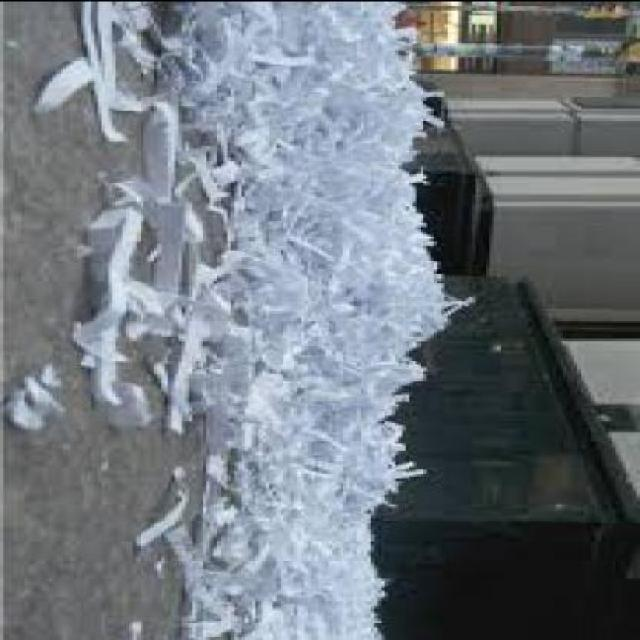PAPER: (3, 1, 485, 638)
